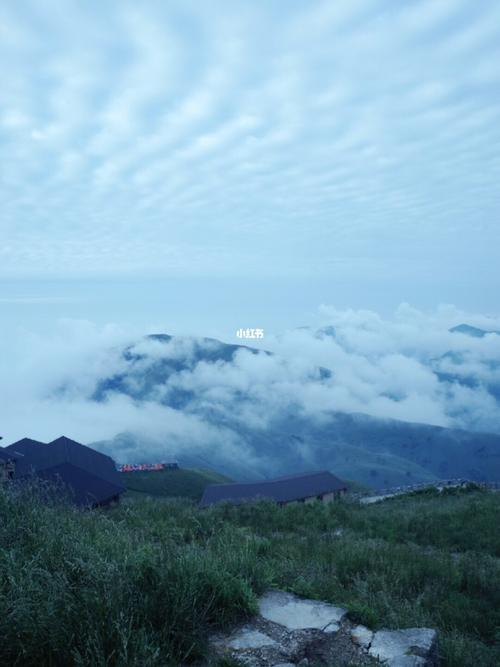mountain: (0, 495, 353, 649)
